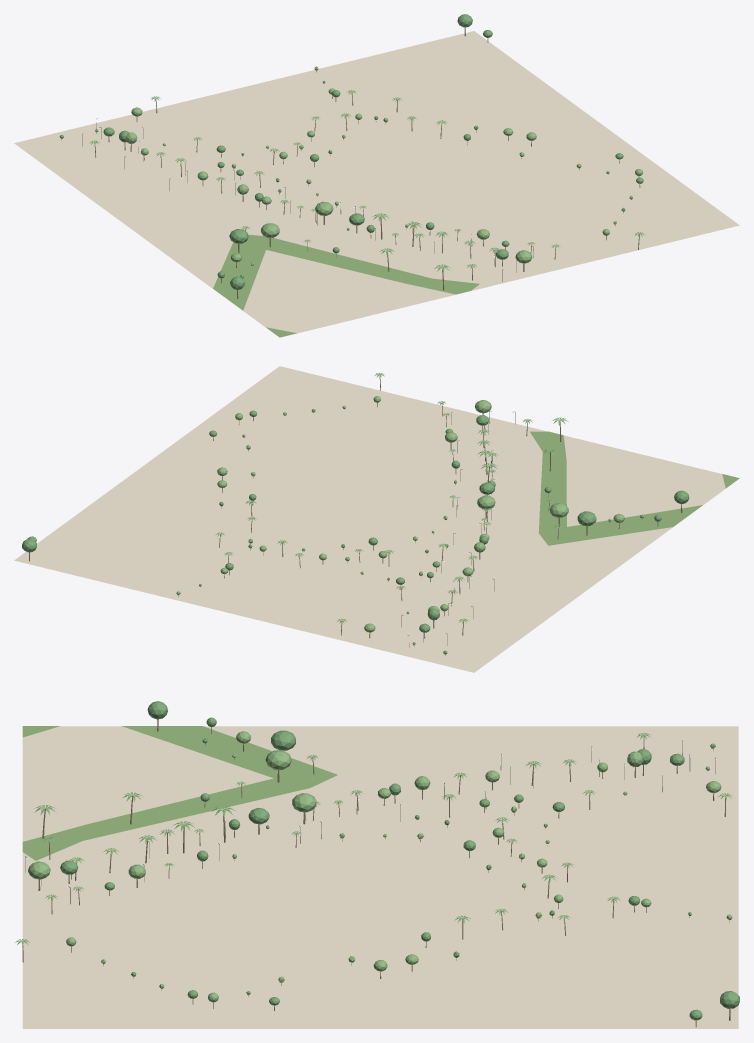
Rendered from nature_-4_3.glb.
3 renders of one model, top to bottom at view 1: azimuth 30°, elevation 25°; view 2: azimuth 150°, elevation 25°; view 3: azimuth 270°, elevation 25°, orthographic. The views are drawn at different scales.
Parts seen in each view (by area): view 1: ground, grass, foliage_b, foliage_a, palm_leaf, trunk; view 2: ground, grass, foliage_b, foliage_a, palm_leaf, trunk; view 3: ground, grass, foliage_b, foliage_a, palm_leaf, trunk.
Boxes of the visible parts, x1=… form: ground: x1=14, y1=31, x2=739, y2=337; grass: x1=213, y1=234, x2=479, y2=337; foliage_b: x1=95, y1=66, x2=642, y2=265; foliage_a: x1=59, y1=14, x2=643, y2=289; palm_leaf: x1=89, y1=90, x2=644, y2=272; trunk: x1=61, y1=27, x2=640, y2=298; ground: x1=14, y1=366, x2=739, y2=672; grass: x1=530, y1=431, x2=739, y2=545; foliage_b: x1=176, y1=396, x2=624, y2=645; foliage_a: x1=22, y1=409, x2=689, y2=654; palm_leaf: x1=216, y1=372, x2=568, y2=623; trunk: x1=29, y1=375, x2=682, y2=655; ground: x1=22, y1=726, x2=738, y2=1028; grass: x1=22, y1=726, x2=337, y2=860; foliage_b: x1=28, y1=731, x2=732, y2=1002; foliage_a: x1=60, y1=701, x2=739, y2=1020; palm_leaf: x1=15, y1=732, x2=732, y2=946; trunk: x1=22, y1=719, x2=730, y2=1027.
Bounding box in the file's own units: 251 × 12.85 × 253.
